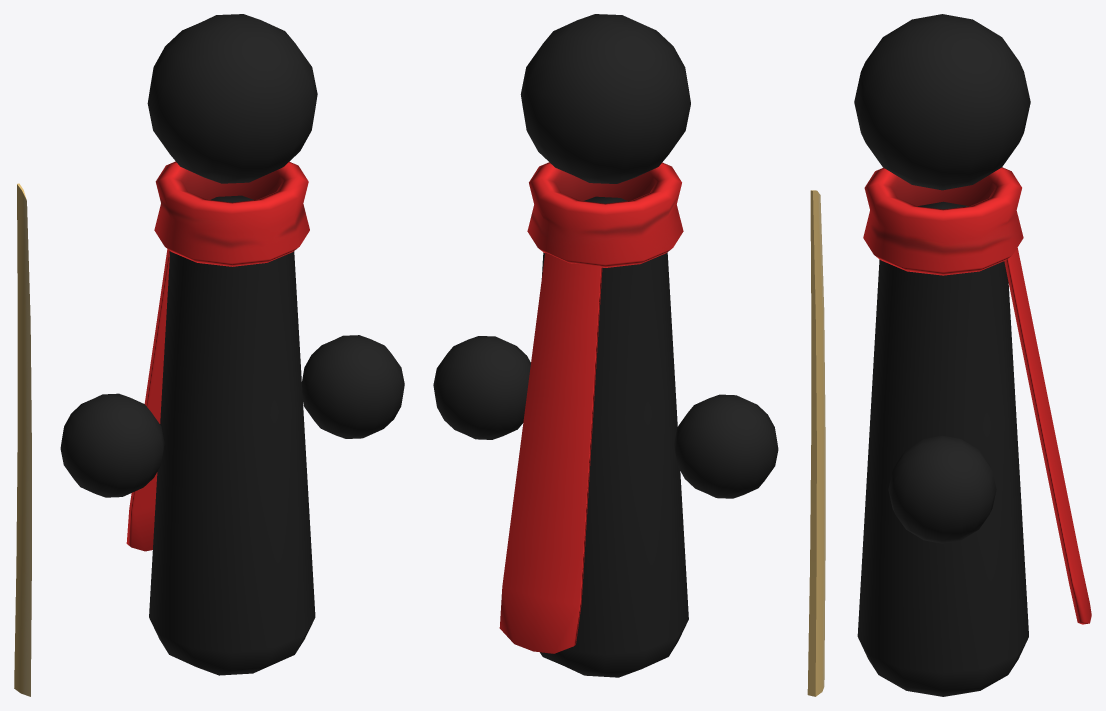
3 views of the same model, side by side, from view 1: azimuth 30°, elevation 25°; view 2: azimuth 150°, elevation 25°; view 3: azimuth 270°, elevation 25° (orthographic). The views are drawn at different scales.
Visible parts, largest first — view 1: MD001_body, sword; view 2: MD001_body, sword; view 3: MD001_body.
Part boxes in pixels (<box>): MD001_body: <box>60,14,404,675</box>; sword: <box>14,183,31,696</box>; MD001_body: <box>433,14,778,677</box>; sword: <box>807,190,825,696</box>; MD001_body: <box>854,14,1091,696</box>.
Size of the model in its own units: 59 by 95.67 by 31.07.
